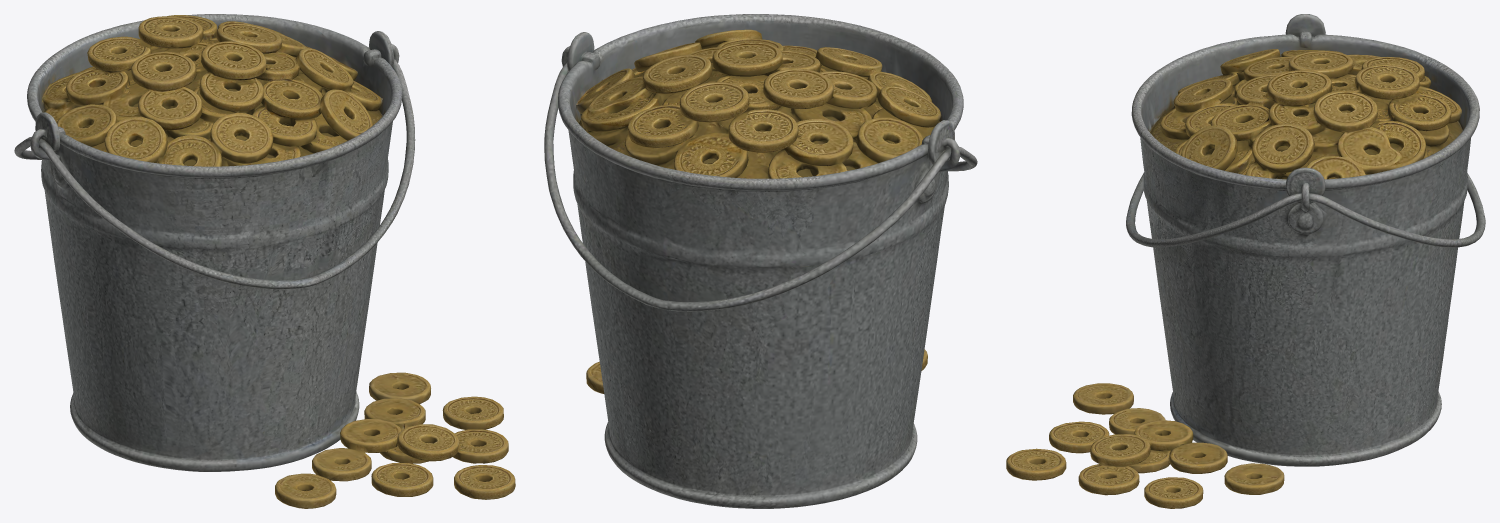
The model's file is coin-bucket.glb.
3 views of the same model, side by side, from view 1: azimuth 30°, elevation 25°; view 2: azimuth 150°, elevation 25°; view 3: azimuth 270°, elevation 25° (orthographic). The views are drawn at different scales.
Visible parts, largest first — view 1: tripo_node_e4874fc0-56bb-45f6-b3b2-34b2b517f489; view 2: tripo_node_e4874fc0-56bb-45f6-b3b2-34b2b517f489; view 3: tripo_node_e4874fc0-56bb-45f6-b3b2-34b2b517f489.
Boxes of the visible parts, box(x1,y1,x2,y2) form: tripo_node_e4874fc0-56bb-45f6-b3b2-34b2b517f489: box(14, 14, 515, 508); tripo_node_e4874fc0-56bb-45f6-b3b2-34b2b517f489: box(544, 14, 977, 508); tripo_node_e4874fc0-56bb-45f6-b3b2-34b2b517f489: box(1006, 14, 1485, 508).
Bounding box in the file's own units: 0.8857 × 0.7614 × 0.9798.
1 material, 1 textured.
